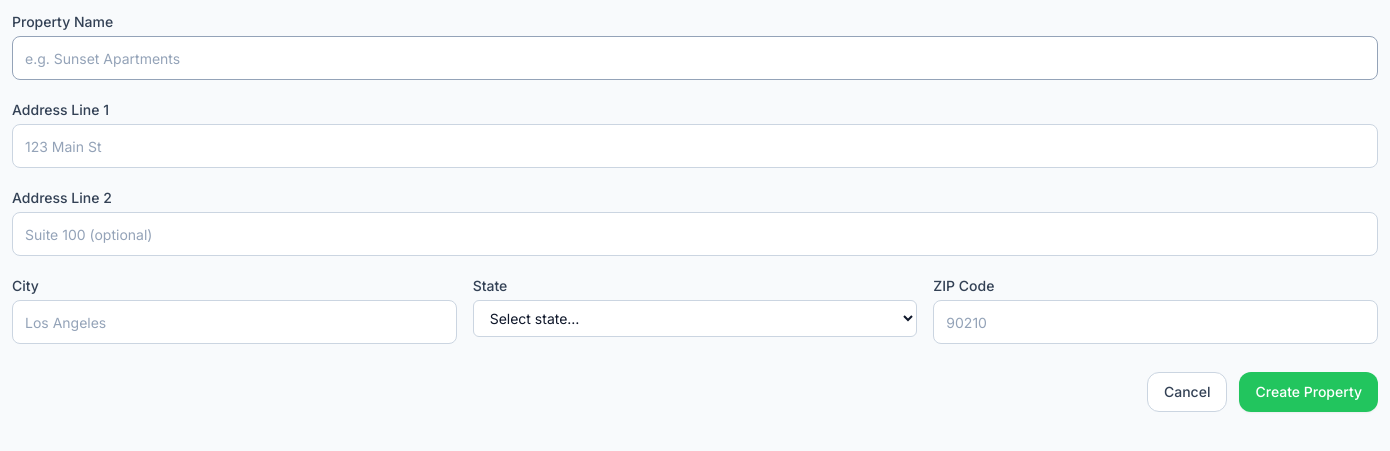
Test: PropertyForm › validates ZIP code format
Type "Test" into the field labelled "Property Name" at (695, 58), box [12,36,1378,80]
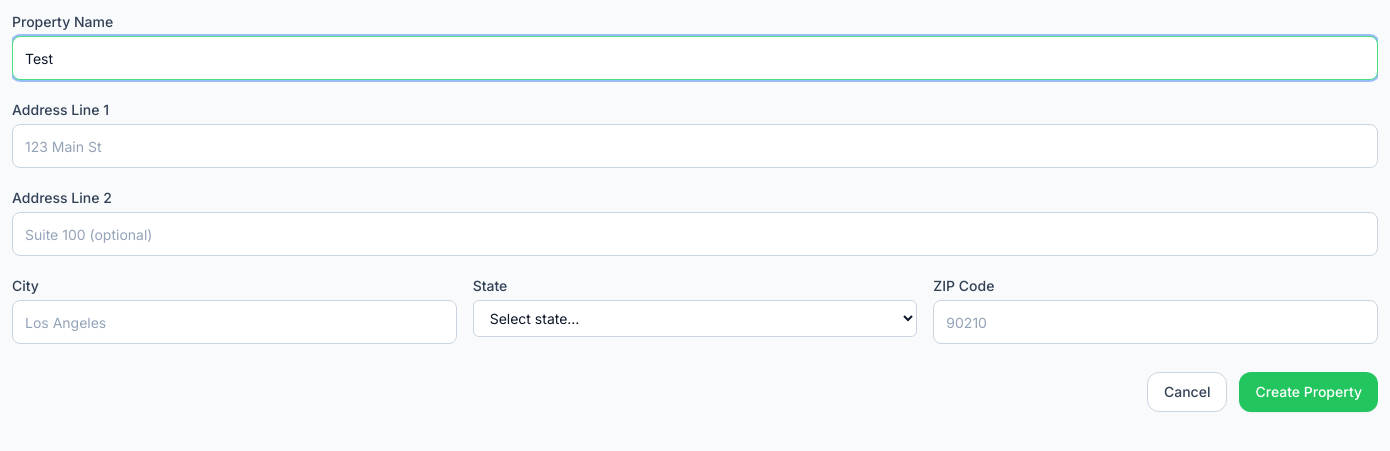
Type "123 Main" into the field labelled "Address Line 1" at (695, 146), box [12,124,1378,168]
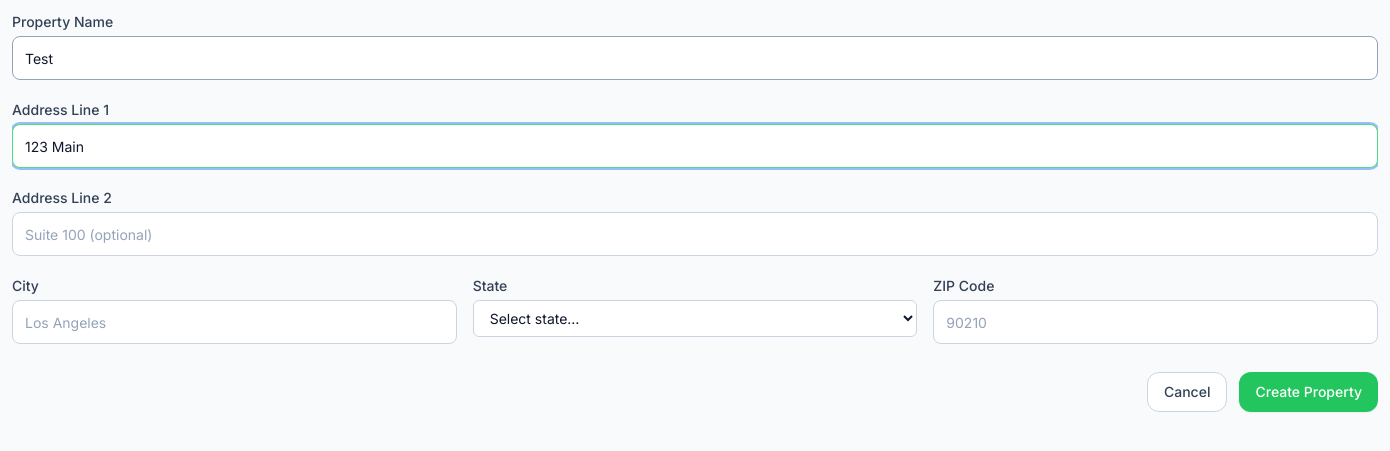
Type "LA" into the field labelled "City" at (234, 322), box [12,300,457,344]
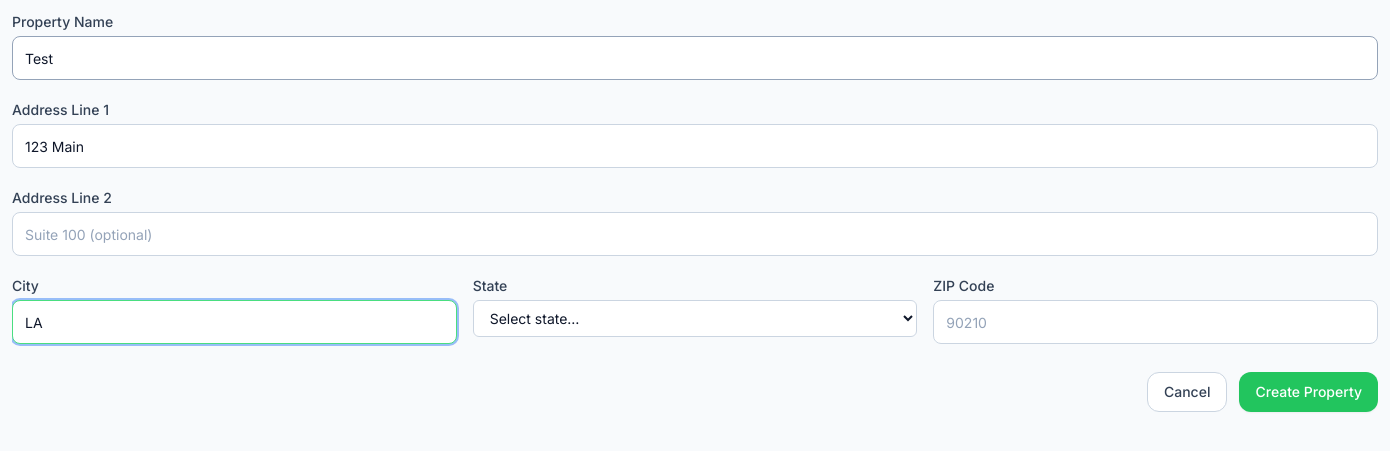
Select "CA" in the dropdown labelled "State" at (695, 318), box [473,300,917,337]
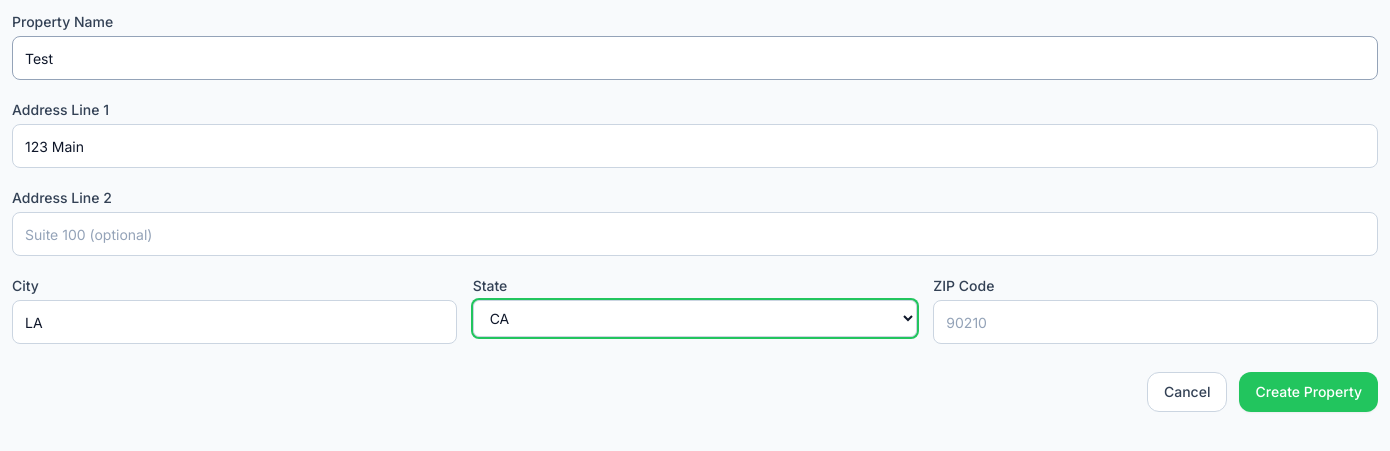
Type "abc" into the field labelled "ZIP Code" at (1156, 322), box [933,300,1378,344]
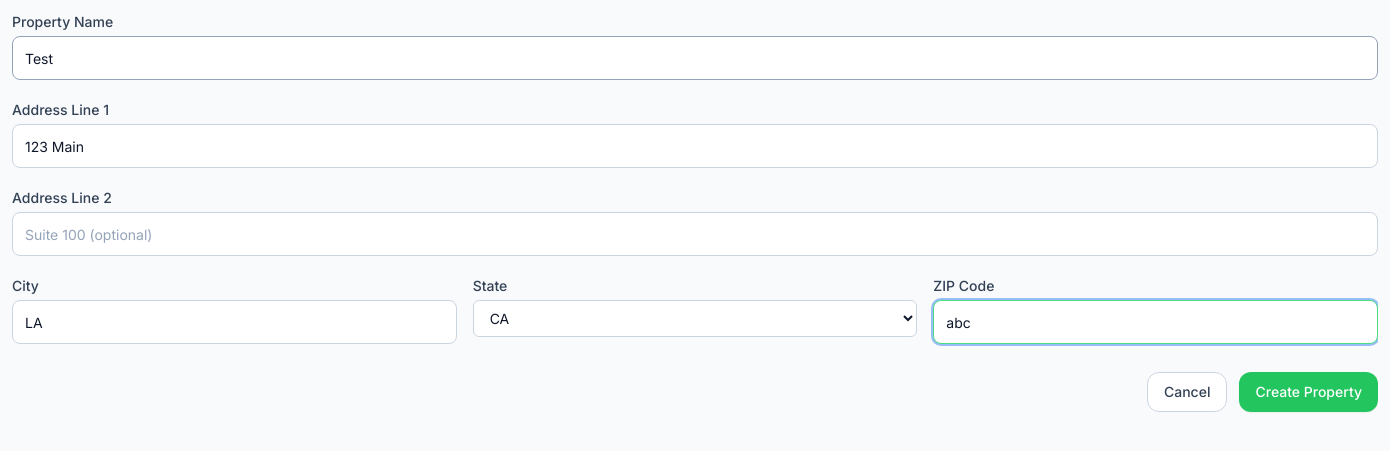
Click the button "Create Property" at (1309, 392), box [1240,372,1378,412]
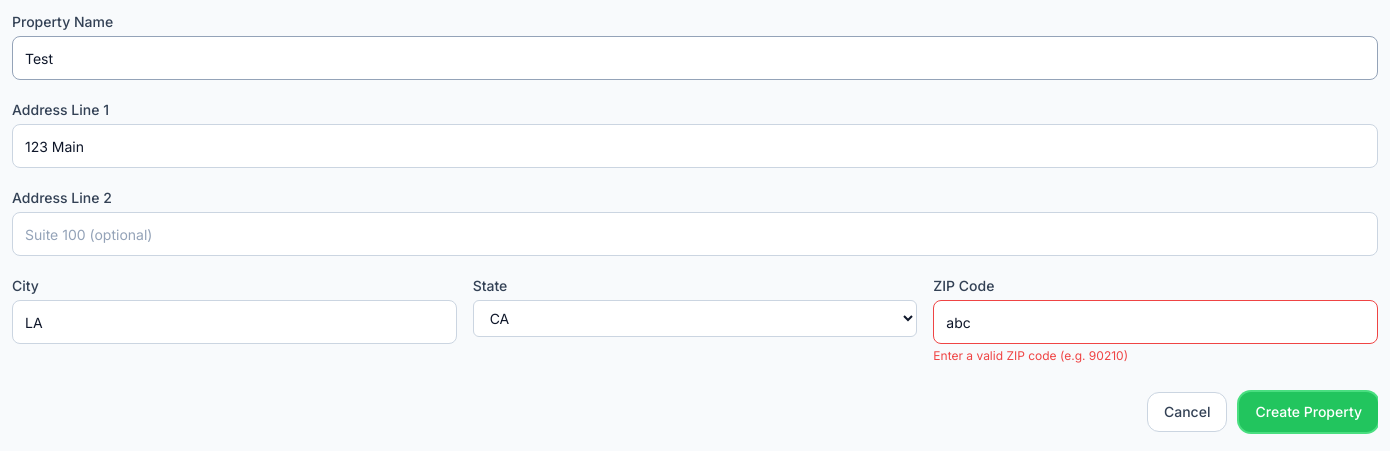
Result: the text "Enter a valid ZIP code (e.g. 90210)" is shown at [933,348,1128,363]
